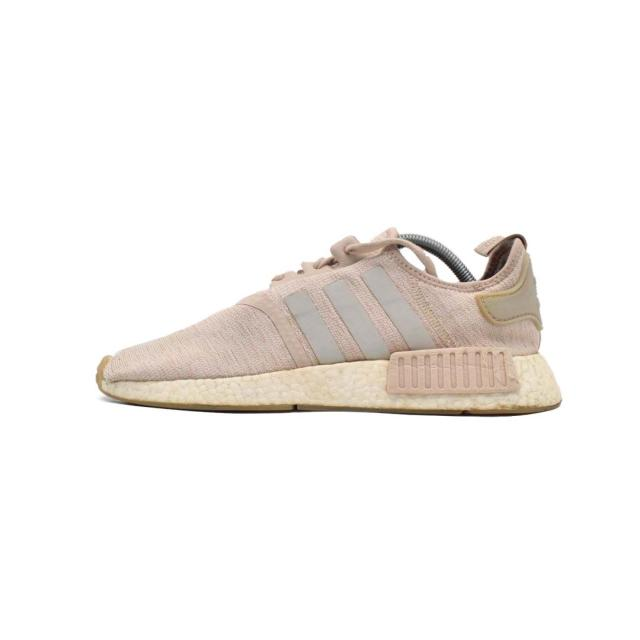heel: (467, 233, 542, 352)
midsole: (92, 349, 562, 417)
uppersole: (114, 229, 473, 384)
